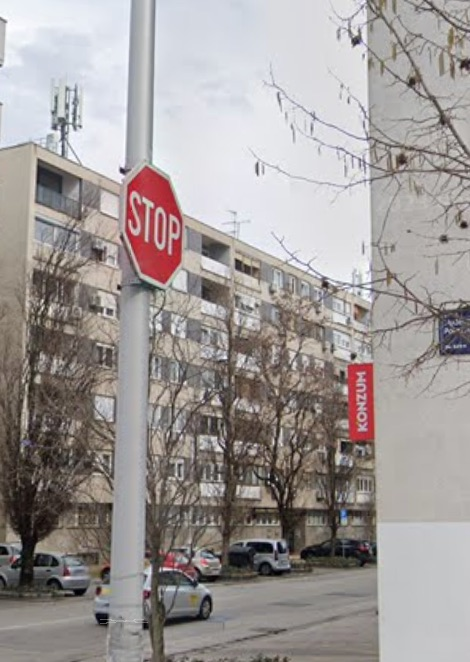Obavezno zaustavljanje: (121, 159, 184, 290)
